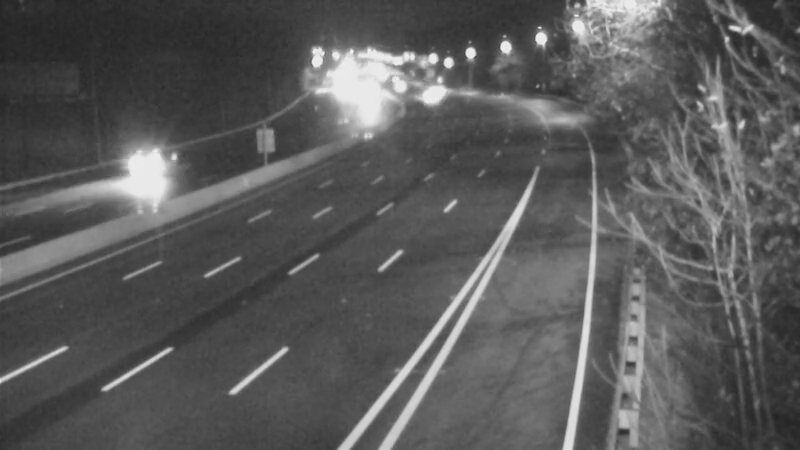vehicle: (110, 126, 190, 206), (374, 59, 424, 109), (404, 73, 454, 123)
